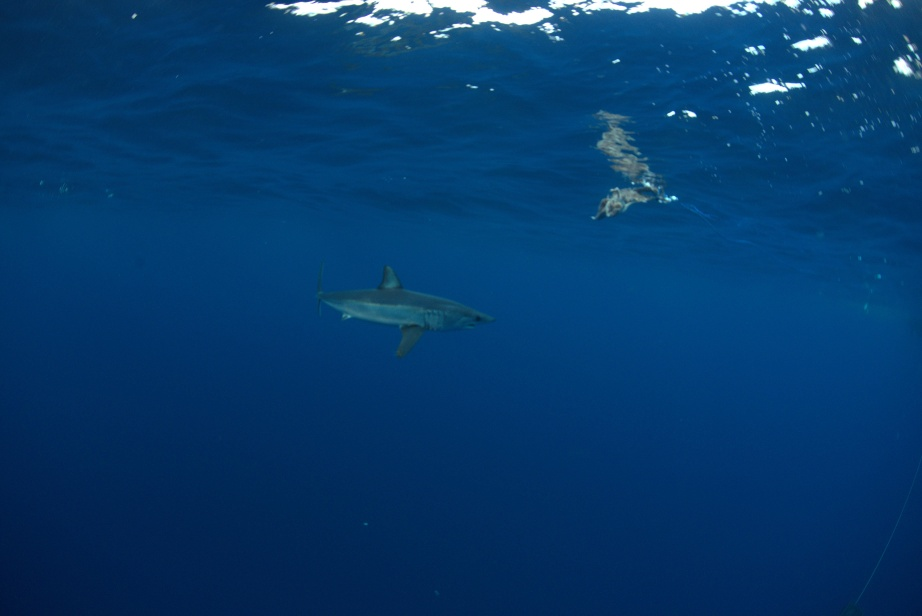Mako: (288, 250, 504, 364)
